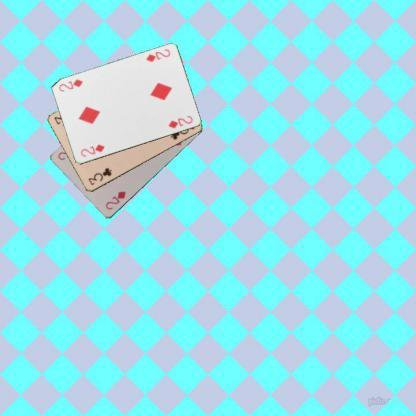2d: (102, 188, 128, 211), (143, 46, 171, 64), (78, 142, 106, 158)
3c: (86, 165, 112, 187)
